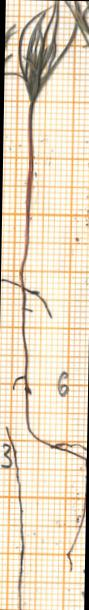flower: (5, 1, 75, 102)
root: (13, 293, 86, 462)
stem: (19, 102, 33, 290)
